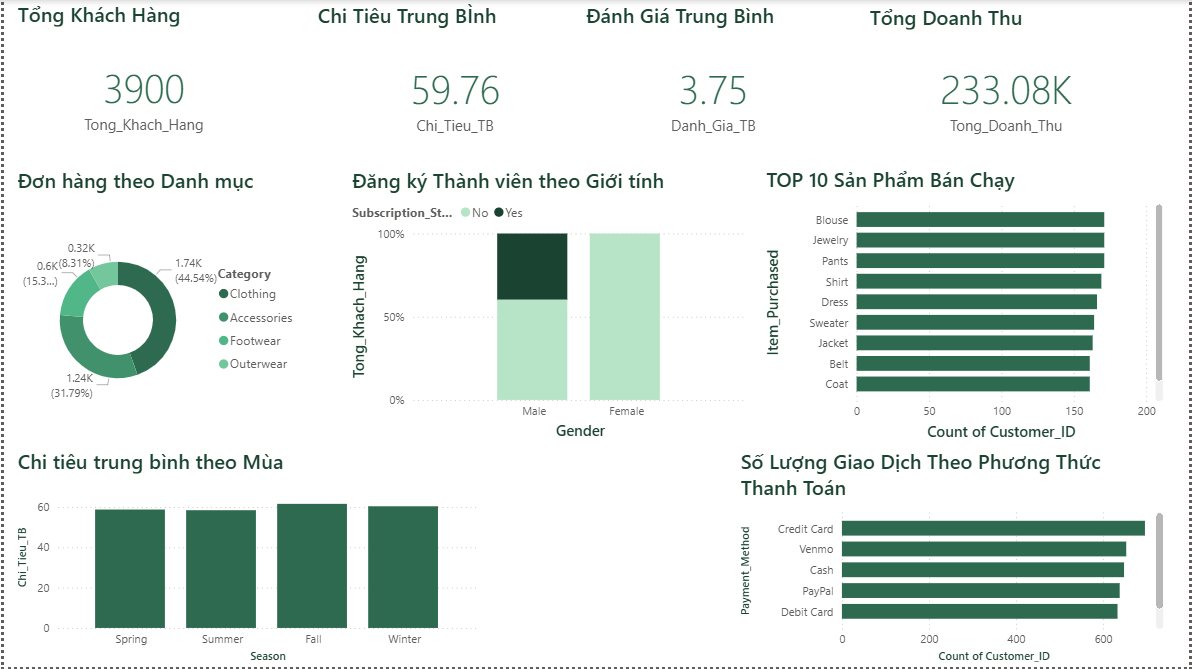

The dashboard page shown, as its layout file describes it:
{"tool":"powerbi","page":{"name":"Page 1","canvas":[1280,720],"ordinal":0},"visuals":[{"type":"donutChart","title":"Đơn hàng theo Danh mục","fields":{"Category":["shopping_trends.Category"],"Y":["CountNonNull(shopping_trends.Customer_ID)"]},"box":[10,180,316,302],"z":0},{"type":"clusteredColumnChart","title":"Chi tiêu trung bình theo Mùa","fields":{"Y":["shopping_trends.Chi_Tieu_TB"],"Category":["shopping_trends.Season"]},"box":[10,482,506,238],"z":1000},{"type":"hundredPercentStackedColumnChart","title":"Đăng ký Thành viên theo Giới tính","fields":{"Category":["shopping_trends.Gender"],"Series":["shopping_trends.Subscription_Status"],"Y":["shopping_trends.Tong_Khach_Hang"]},"box":[370,180,436,300],"z":2000},{"type":"clusteredBarChart","title":"TOP 10 Sản Phẩm Bán Chạy","fields":{"Category":["shopping_trends.Item_Purchased"],"Y":["CountNonNull(shopping_trends.Customer_ID)"]},"box":[818,178,438,302],"z":3000},{"type":"clusteredBarChart","title":"Số Lượng Giao Dịch Theo Phương Thức Thanh Toán","fields":{"Y":["CountNonNull(shopping_trends.Customer_ID)"],"Category":["shopping_trends.Payment_Method"]},"box":[790,482,466,238],"z":4000},{"type":"card","title":"Tổng Khách Hàng","fields":{"Values":["shopping_trends.Tong_Khach_Hang"]},"box":[10,0,282,180],"z":5000},{"type":"card","title":"Chi Tiêu Trung BÌnh","fields":{"Values":["shopping_trends.Chi_Tieu_TB"]},"box":[334,2,306,178],"z":6000},{"type":"card","title":"Đánh Giá Trung Bình","fields":{"Values":["shopping_trends.Danh_Gia_TB"]},"box":[624,2,284,178],"z":7000},{"type":"card","title":"Tổng Doanh Thu","fields":{"Values":["shopping_trends.Tong_Doanh_Thu"]},"box":[930,4,304,176],"z":8000},{"type":"slicer","box":[516,482,290,238],"z":8001}]}

Visuals, with their boxes in screenshot pixels (x1, y1, x2, y2), scaled from the page's 1280x720 canvas onto the 1192x669 screenshot:
"Đơn hàng theo Danh mục" donutChart: [x1=9, y1=167, x2=304, y2=448]
"Chi tiêu trung bình theo Mùa" clusteredColumnChart: [x1=9, y1=448, x2=481, y2=668]
"Đăng ký Thành viên theo Giới tính" hundredPercentStackedColumnChart: [x1=345, y1=167, x2=751, y2=446]
"TOP 10 Sản Phẩm Bán Chạy" clusteredBarChart: [x1=762, y1=165, x2=1170, y2=446]
"Số Lượng Giao Dịch Theo Phương Thức Thanh Toán" clusteredBarChart: [x1=736, y1=448, x2=1170, y2=668]
"Tổng Khách Hàng" card: [x1=9, y1=0, x2=272, y2=167]
"Chi Tiêu Trung BÌnh" card: [x1=311, y1=2, x2=596, y2=167]
"Đánh Giá Trung Bình" card: [x1=581, y1=2, x2=846, y2=167]
"Tổng Doanh Thu" card: [x1=866, y1=4, x2=1149, y2=167]
slicer: [x1=481, y1=448, x2=751, y2=668]
